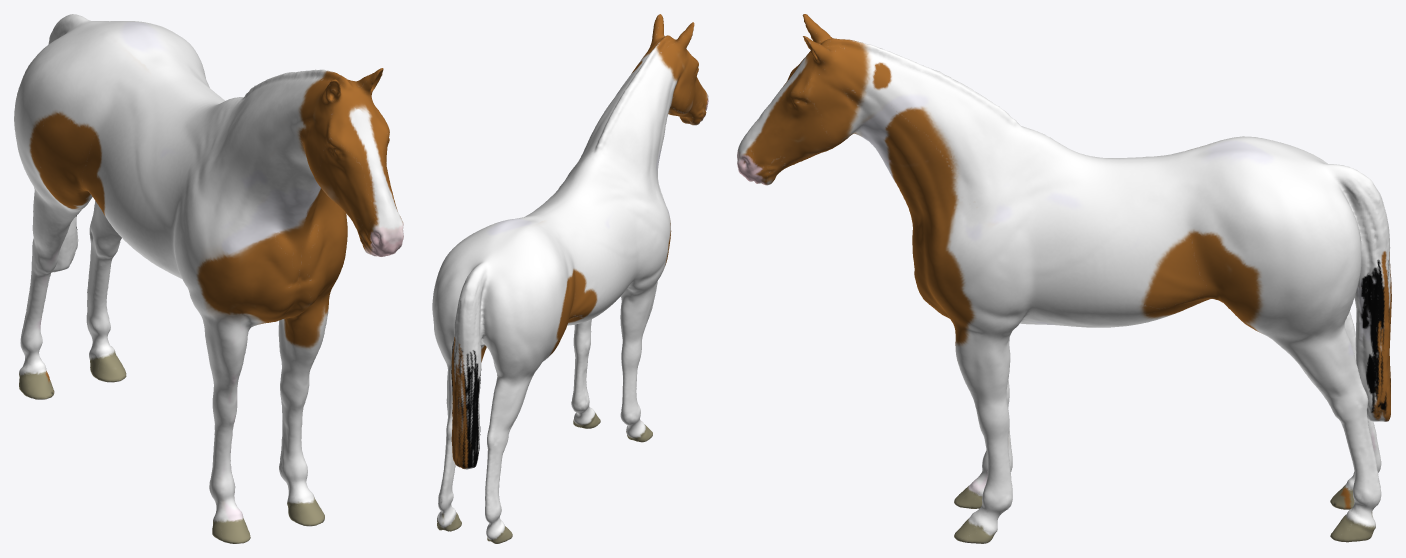
File: horse-processed.glb
The picture shows the model from 3 angles, left to right: view 1: azimuth 30°, elevation 25°; view 2: azimuth 150°, elevation 25°; view 3: azimuth 270°, elevation 25°; orthographic projection. The views are drawn at different scales.
Visible parts, largest first — view 1: paint; view 2: paint; view 3: paint.
Boxes of the visible parts, x1,y1,x2,y2 form: paint: (14,14,403,543); paint: (432,14,708,543); paint: (737,14,1391,543).
Size of the model in its own units: 26.21 by 78.81 by 94.29.
Materials: 1 (1 with a texture image).
